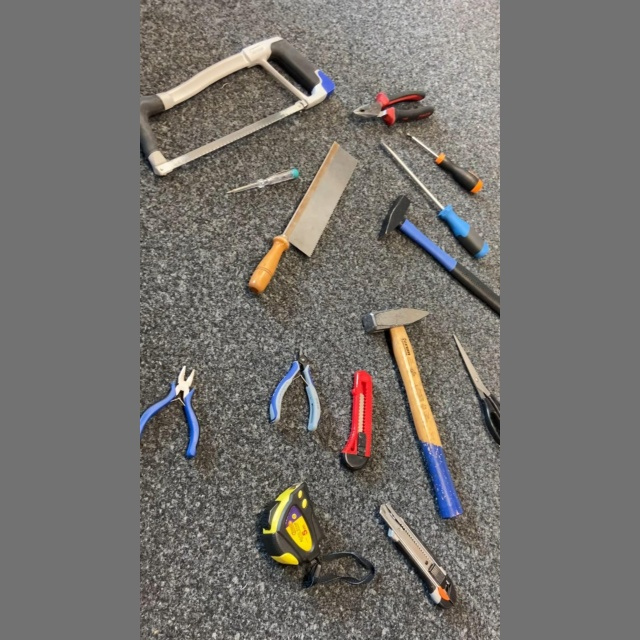scissor: (449, 329, 500, 455)
screwdriver: (371, 136, 494, 264), (401, 129, 489, 196), (219, 164, 304, 201)
